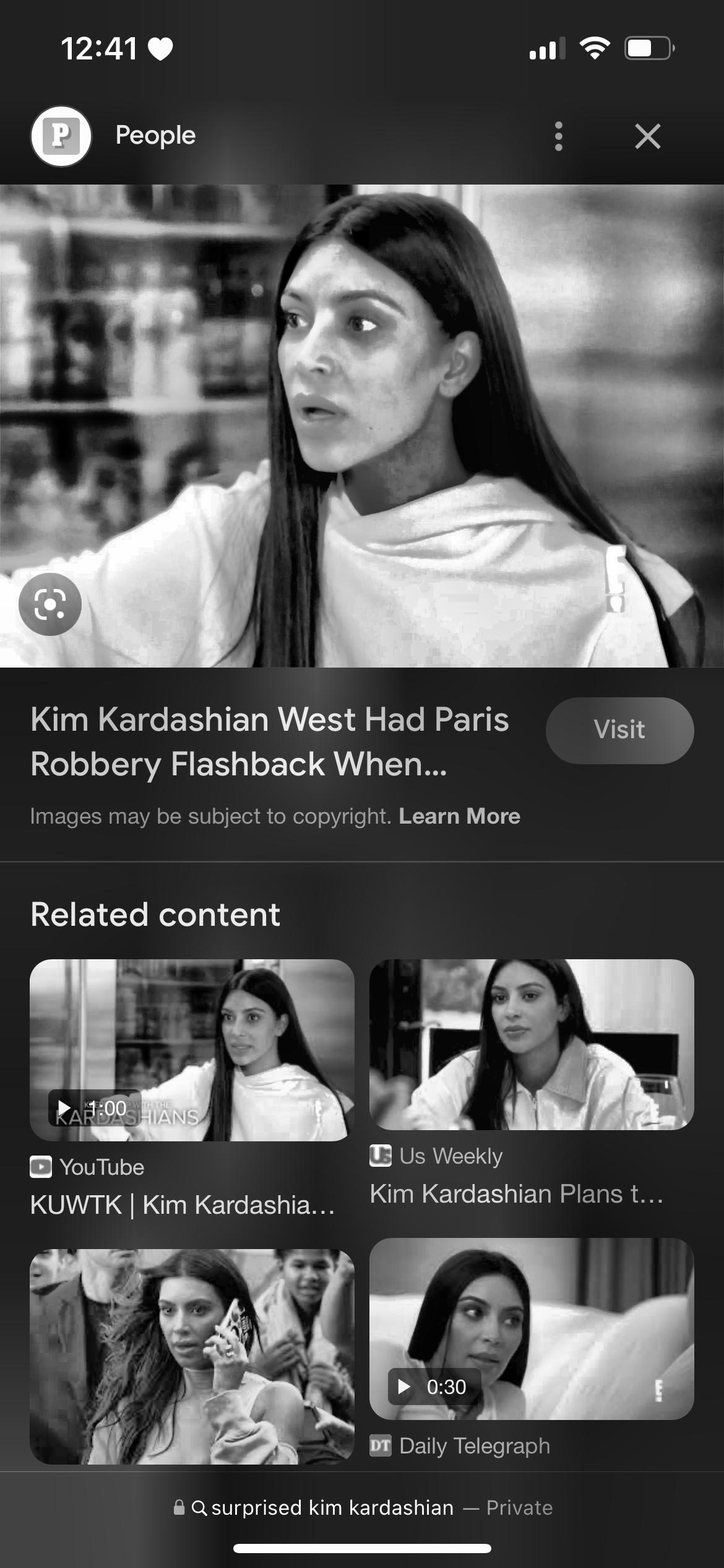surprised: (274, 242, 456, 475)
